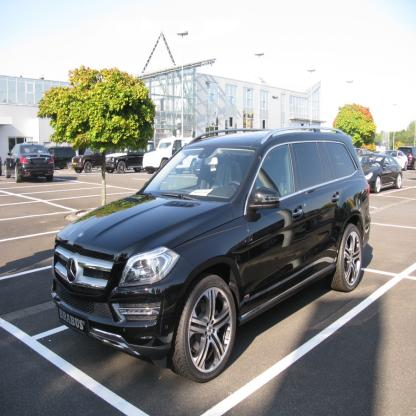Car: (52, 131, 372, 384), (192, 147, 416, 194), (5, 144, 56, 185), (103, 139, 155, 173), (73, 149, 117, 175), (47, 149, 77, 171)
